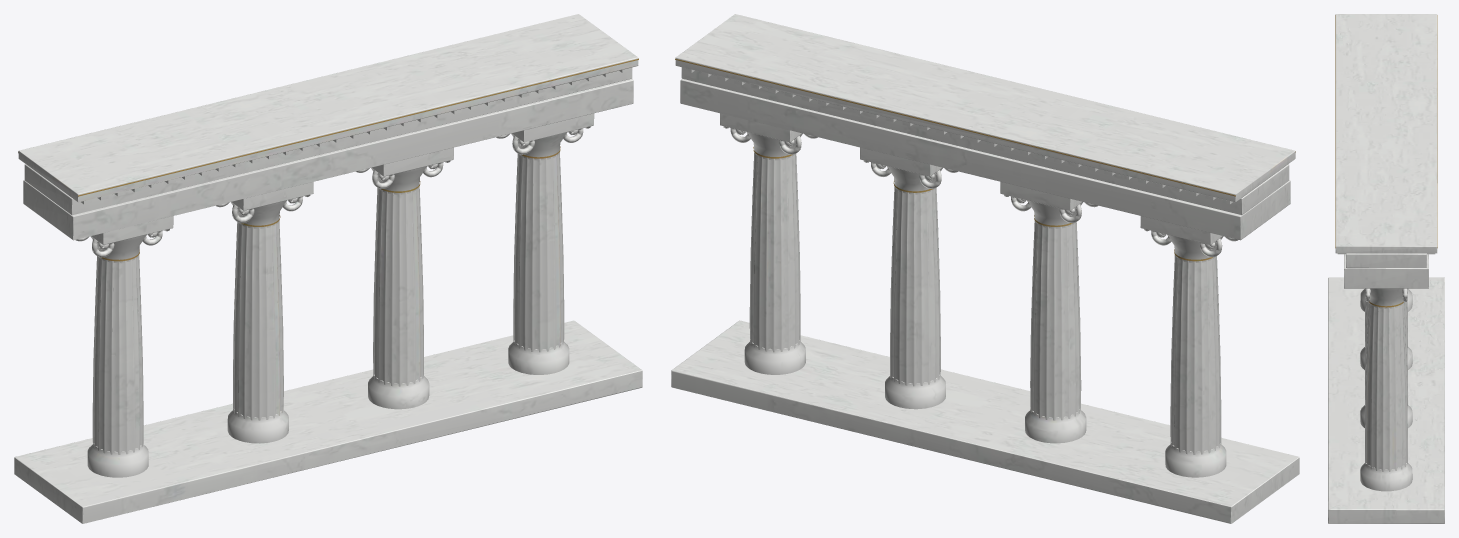
Rendered from ionic_colonnade.glb.
The picture shows the model from 3 angles, left to right: view 1: azimuth 30°, elevation 25°; view 2: azimuth 150°, elevation 25°; view 3: azimuth 270°, elevation 25°; orthographic projection. The views are drawn at different scales.
Parts seen in each view (by area): view 1: 08 Ionic Colonnade; view 2: 08 Ionic Colonnade; view 3: 08 Ionic Colonnade.
Boxes of the visible parts, x1,y1,x2,y2 form: 08 Ionic Colonnade: (14, 14, 642, 523); 08 Ionic Colonnade: (671, 14, 1299, 523); 08 Ionic Colonnade: (1328, 14, 1444, 523).
Size of the model in its own units: 8 by 4.46 by 1.7.
2 materials, 2 textured.
